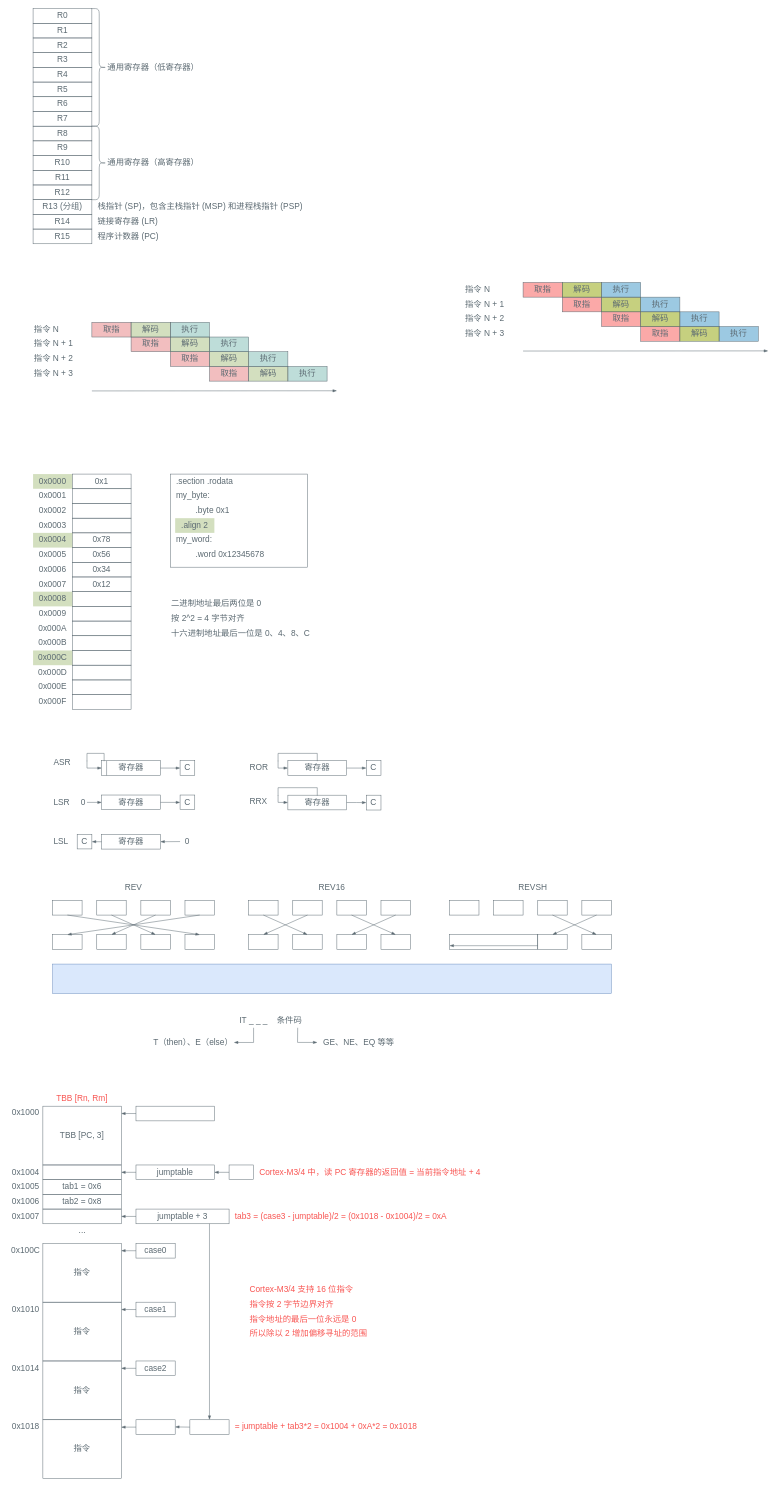
This 781x1487 diagram has some shape labels left out. Each missing label, with the centre of its shape:
"case3" belongs at point 155,1426.
"PC" belongs at point 241,1172.
"tab0 = 0x4" belongs at point 81,1172.
"tab3 = 0xA" belongs at point 81,1216.
"当前执行" belongs at point 174,1113.
"新 PC" belongs at point 209,1426.
"有符号展开" belongs at point 493,941.
